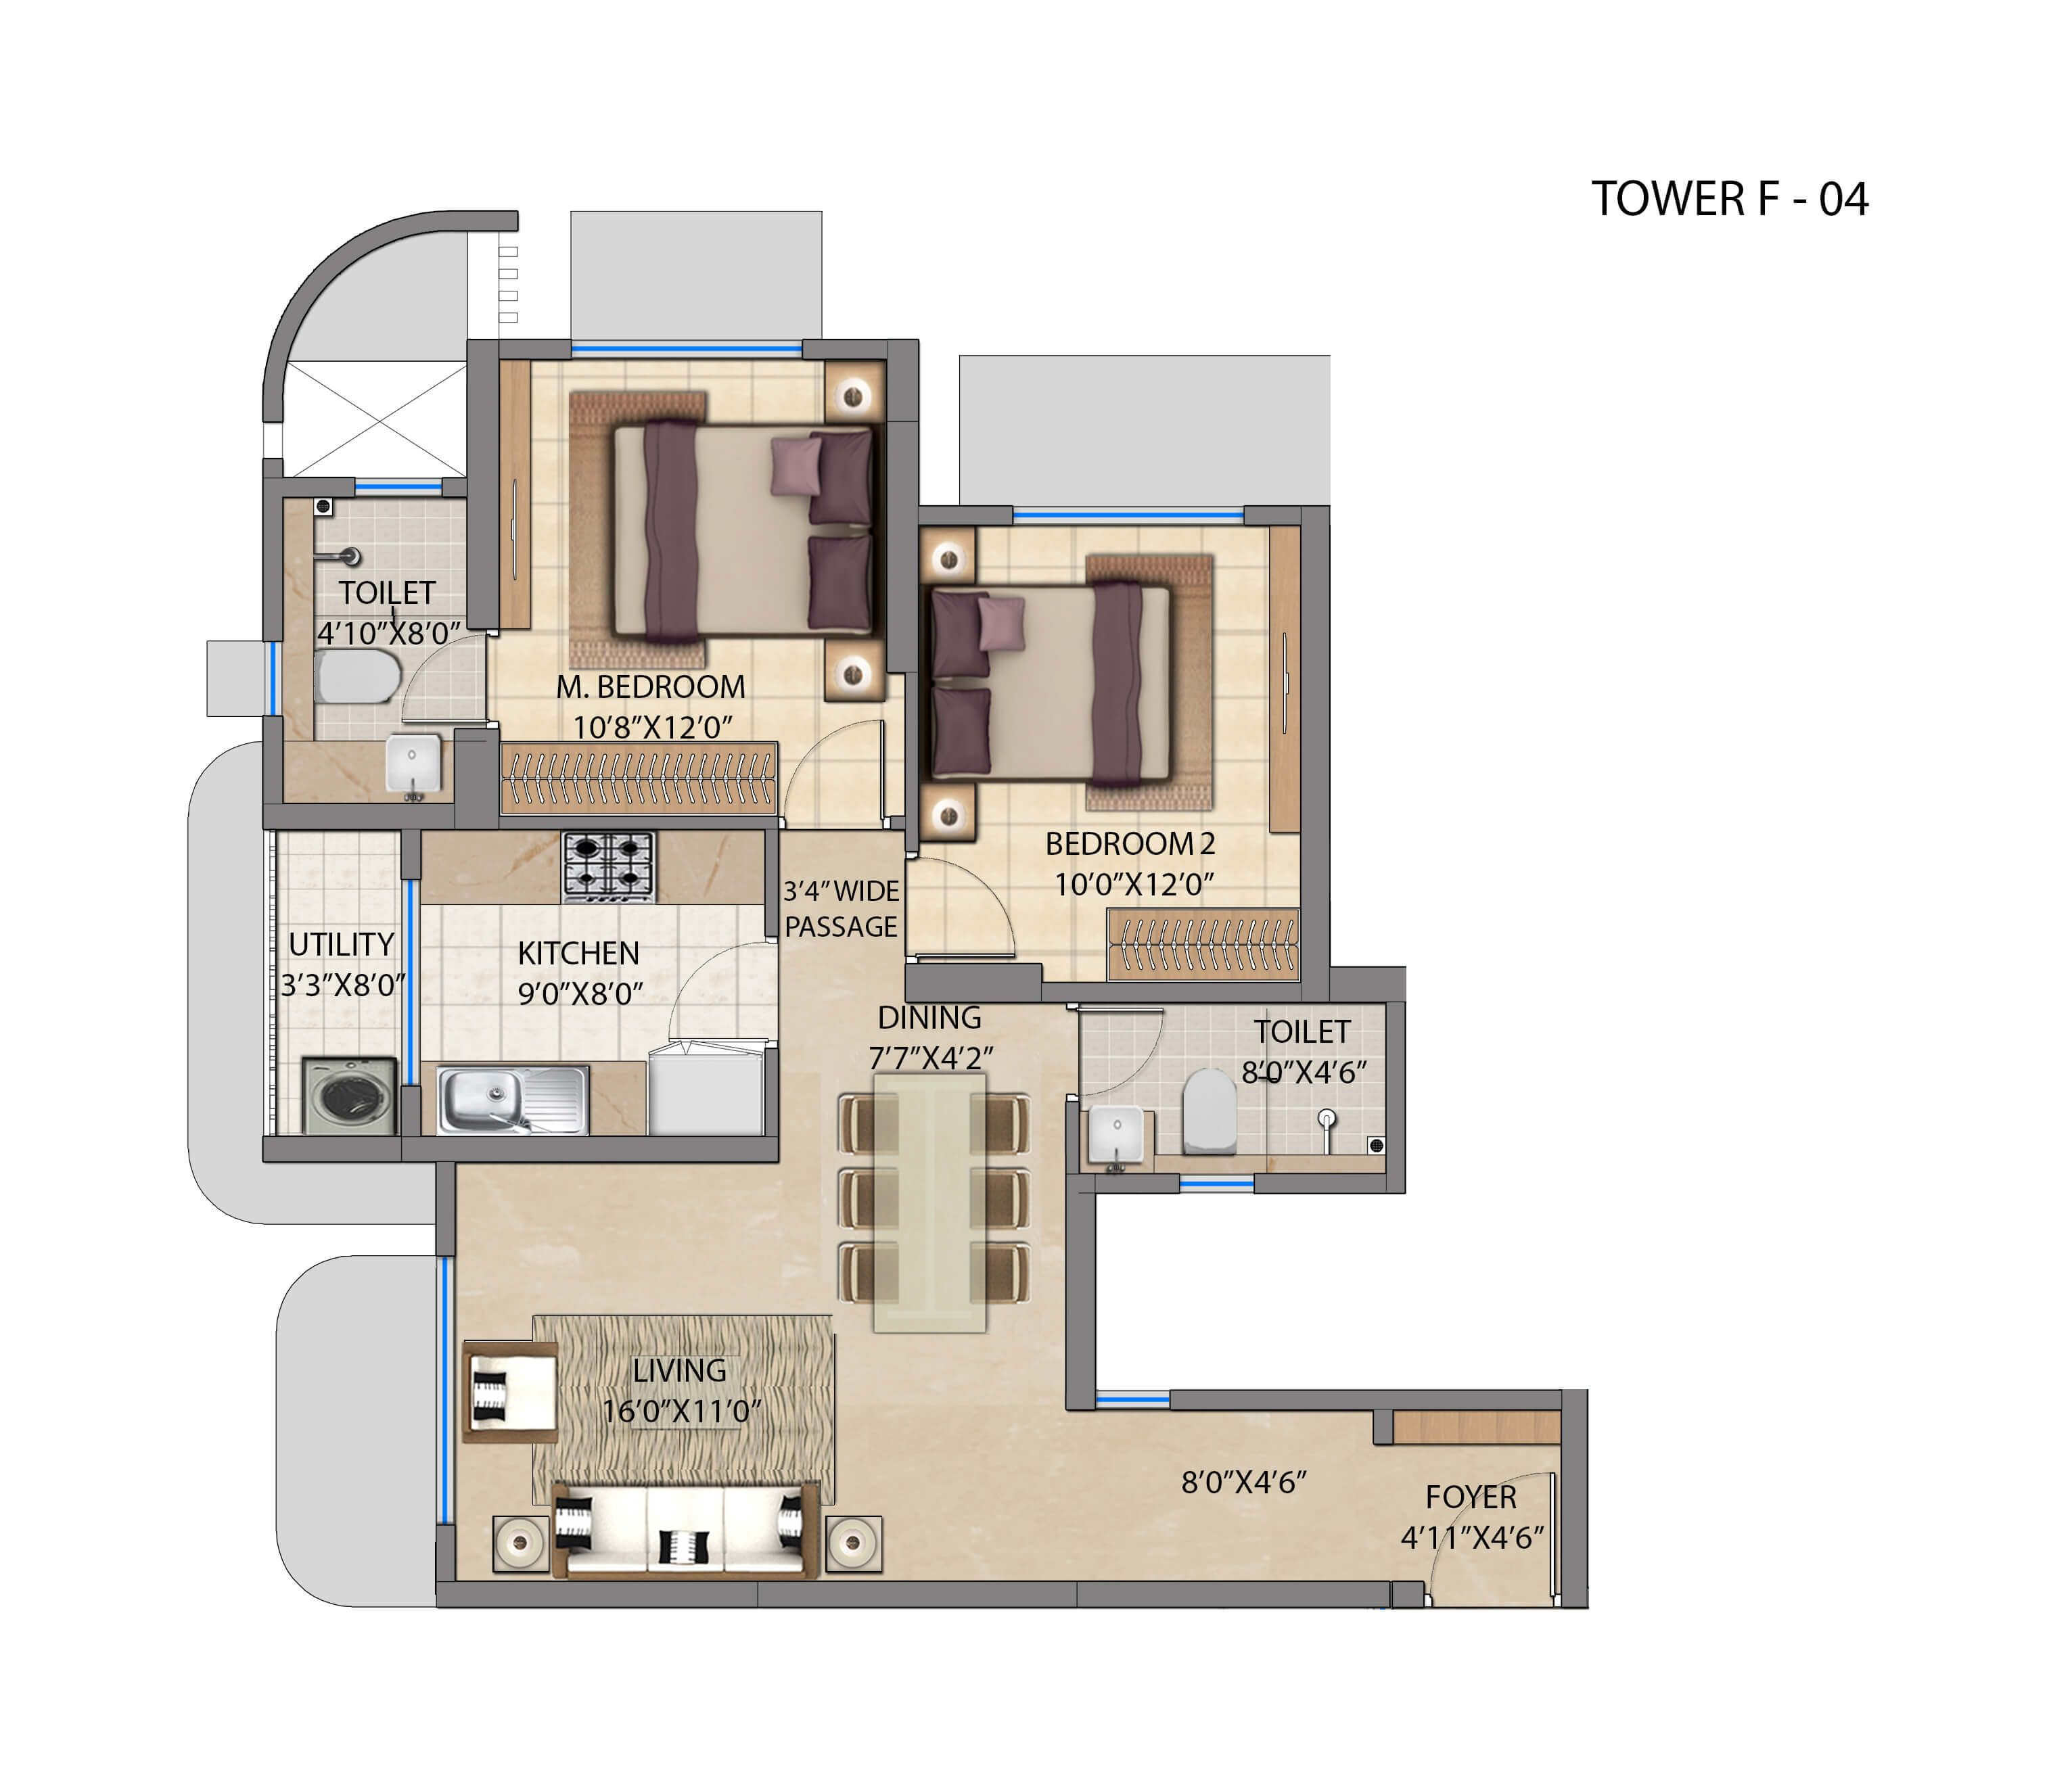window: (430, 1251, 460, 1528), (1010, 500, 1247, 532), (400, 876, 423, 1089), (349, 474, 446, 504), (1091, 1387, 1173, 1413), (1175, 1172, 1256, 1198), (261, 640, 287, 719)
